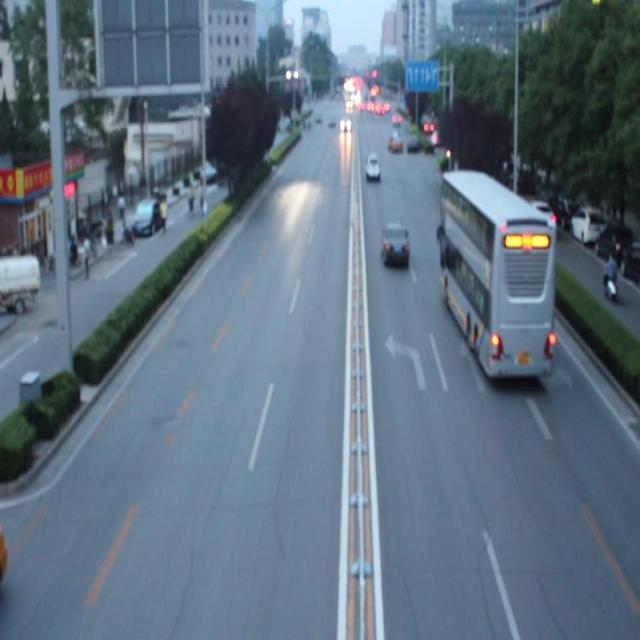car: (381, 218, 410, 270)
van: (442, 170, 552, 382)
